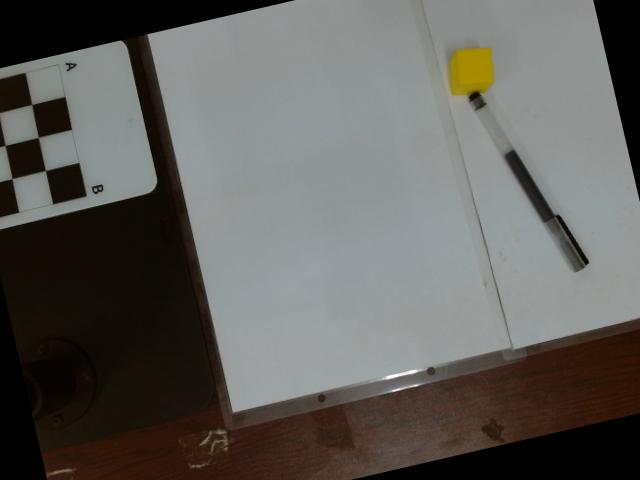PEN: (464, 87, 590, 273)
